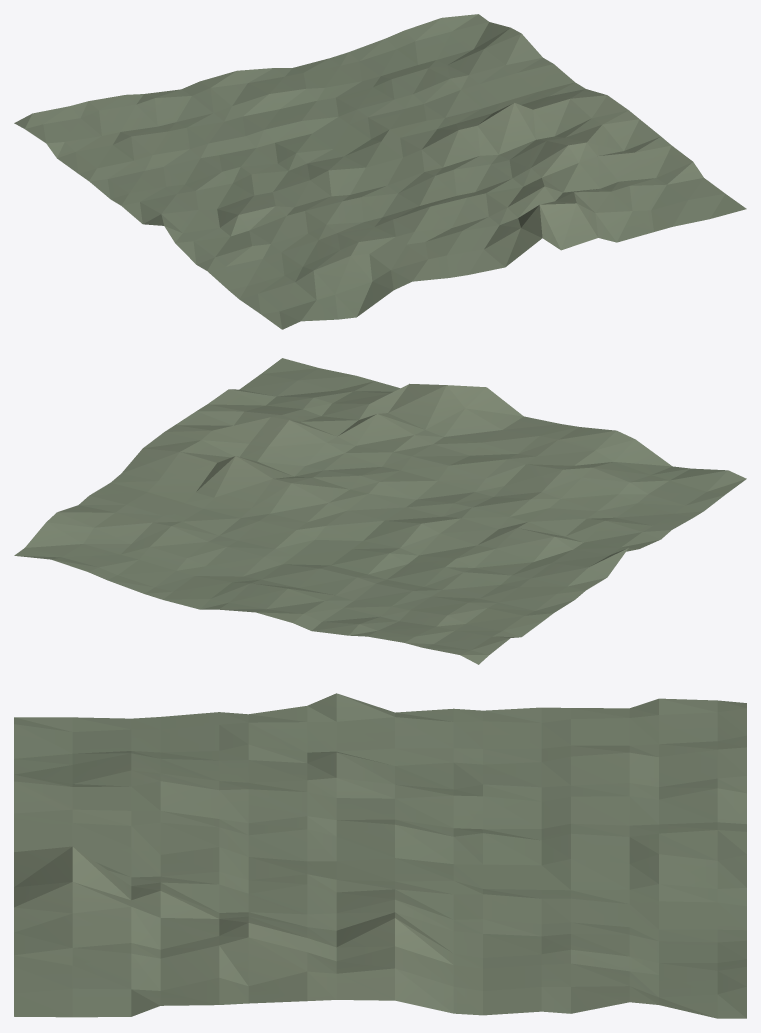
Rendered from tile_1_1.glb.
3 views of the same model, one above another, from view 1: azimuth 30°, elevation 25°; view 2: azimuth 150°, elevation 25°; view 3: azimuth 270°, elevation 25° (orthographic). The views are drawn at different scales.
Parts seen in each view (by area): view 1: geometry_0; view 2: geometry_0; view 3: geometry_0.
Part boxes in pixels (x1=…): geometry_0: x1=14, y1=14, x2=746, y2=329; geometry_0: x1=14, y1=358, x2=746, y2=664; geometry_0: x1=14, y1=693, x2=746, y2=1018.
Size of the model in its own units: 123 by 11.89 by 123.
